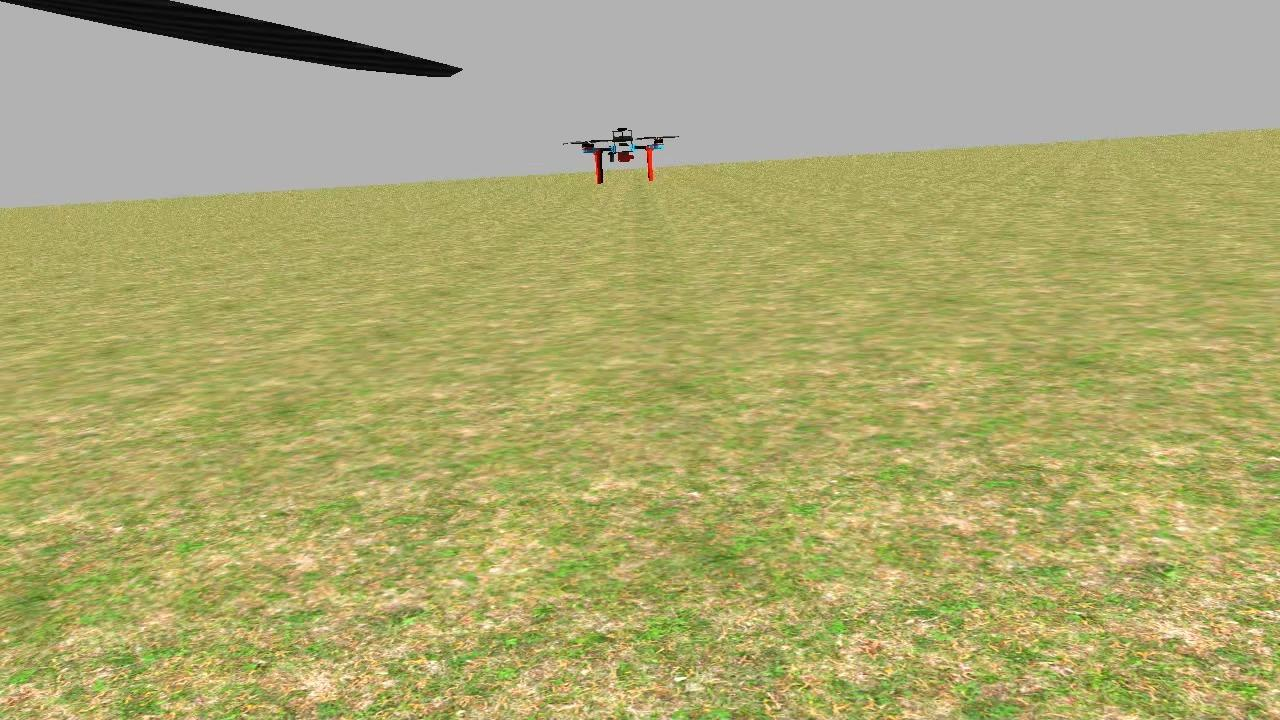UAV: (576, 120, 669, 190)
